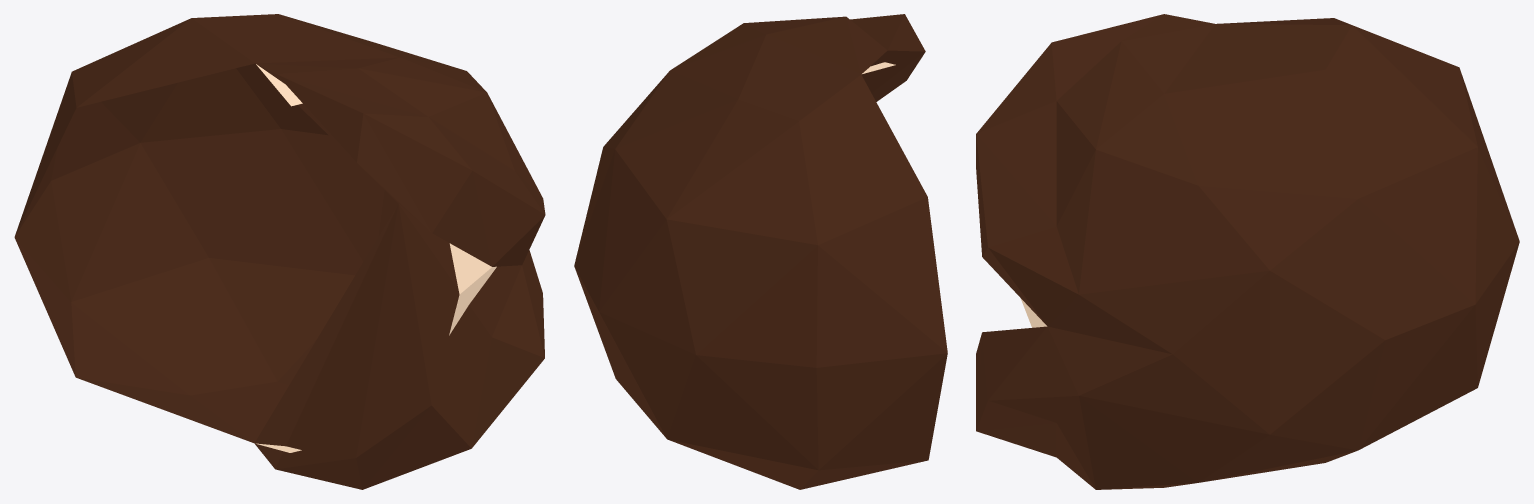
The model's file is hair4.glb.
3 views of the same model, side by side, from view 1: azimuth 30°, elevation 25°; view 2: azimuth 150°, elevation 25°; view 3: azimuth 270°, elevation 25° (orthographic). The views are drawn at different scales.
Parts seen in each view (by area): view 1: tomodachi-2026-03-08-14-47-12-702, tomodachi-2026-03-08-14-47-12-702.008; view 2: tomodachi-2026-03-08-14-47-12-702; view 3: tomodachi-2026-03-08-14-47-12-702.
Boxes of the visible parts, bbox=[...] form: tomodachi-2026-03-08-14-47-12-702: bbox=[14, 14, 545, 489]; tomodachi-2026-03-08-14-47-12-702.008: bbox=[256, 64, 496, 452]; tomodachi-2026-03-08-14-47-12-702: bbox=[574, 14, 947, 489]; tomodachi-2026-03-08-14-47-12-702: bbox=[976, 14, 1519, 489].
Size of the model in its own units: 1.17 by 1.11 by 1.26.
Materials: 2 (2 with a texture image).
